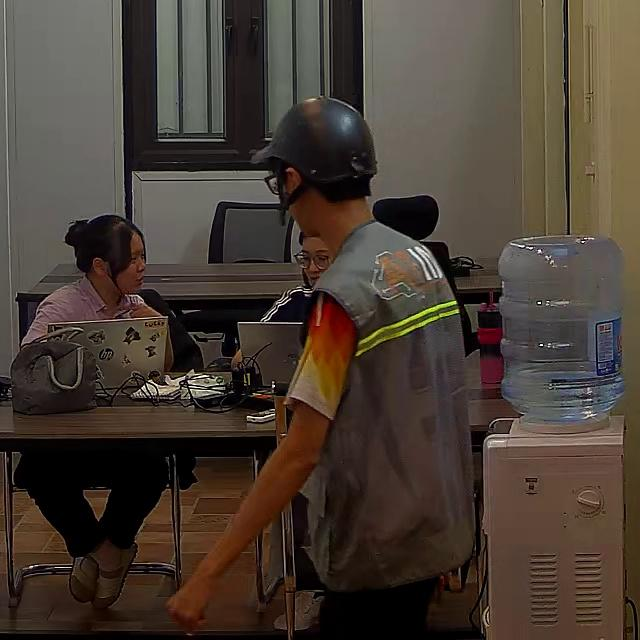helmet: (253, 95, 382, 213)
no_helmet: (64, 214, 143, 275)
none: (20, 277, 152, 351)
vest: (296, 223, 475, 592)
